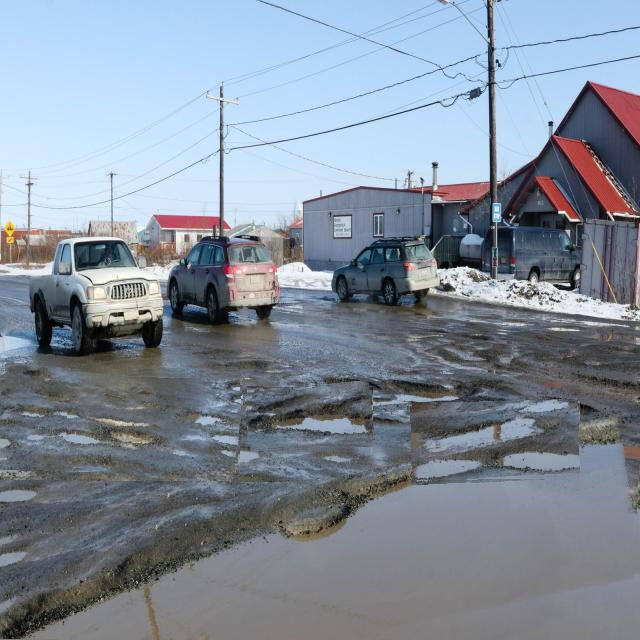Pothole: (0, 447, 640, 640), (0, 368, 242, 476), (411, 400, 581, 480), (246, 383, 373, 447)
